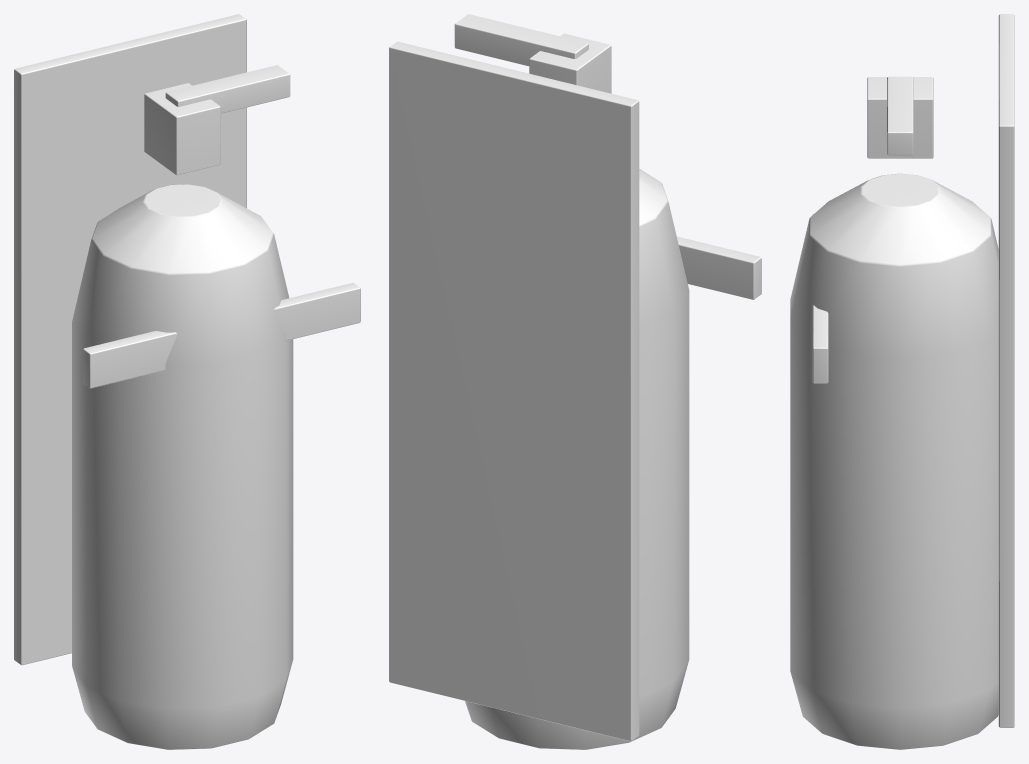
The model's file is extinguisher.glb.
The picture shows the model from 3 angles, left to right: view 1: azimuth 30°, elevation 25°; view 2: azimuth 150°, elevation 25°; view 3: azimuth 270°, elevation 25°; orthographic projection. The views are drawn at different scales.
Parts seen in each view (by area): view 1: Extinguisher; view 2: Extinguisher; view 3: Extinguisher.
Part boxes in pixels (<box>): Extinguisher: <box>14,14,360,749</box>; Extinguisher: <box>389,14,761,749</box>; Extinguisher: <box>790,14,1014,749</box>.
Bounding box in the file's own units: 0.24 × 0.53 × 0.1689.
1 material, 1 textured.
